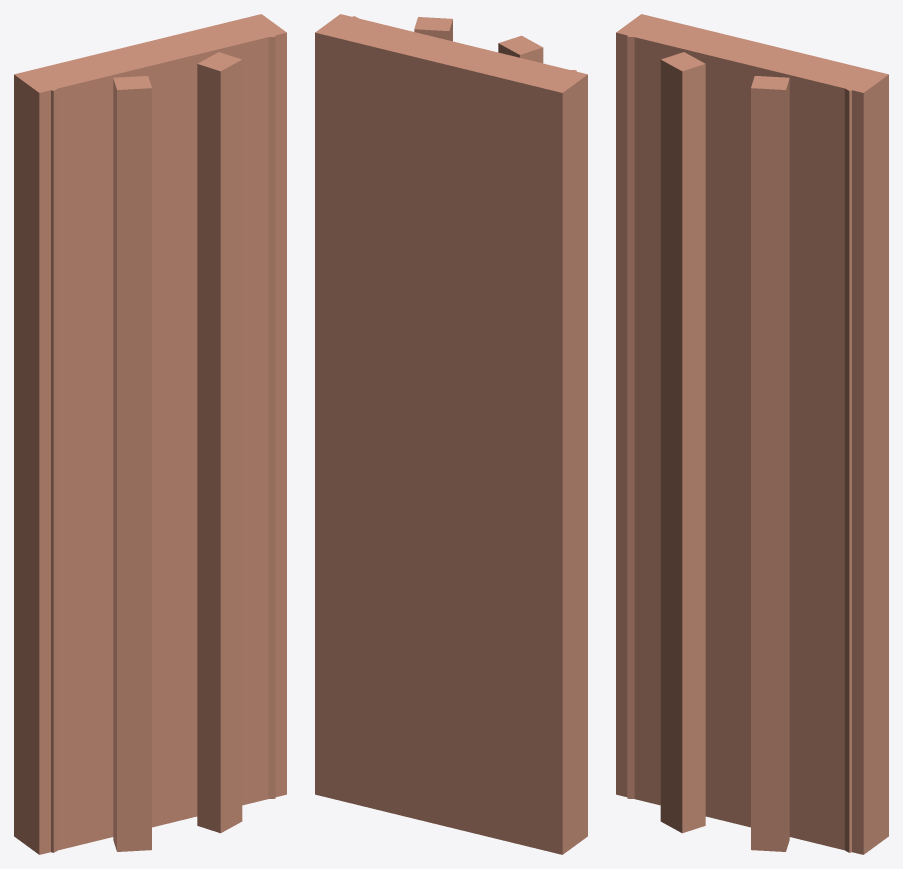
The model's file is kit_pilaster_shaft.glb.
3 renders of one model, left to right at view 1: azimuth 30°, elevation 25°; view 2: azimuth 150°, elevation 25°; view 3: azimuth 330°, elevation 25°, orthographic.
Visible parts, largest first — view 1: kit_pilaster_shaft; view 2: kit_pilaster_shaft; view 3: kit_pilaster_shaft.
Boxes of the visible parts, box(x1,y1,x2,y2) form: kit_pilaster_shaft: box(14, 14, 286, 854); kit_pilaster_shaft: box(315, 14, 587, 854); kit_pilaster_shaft: box(616, 14, 888, 854).
Size of the model in its own units: 0.34 by 1 by 0.1156.
